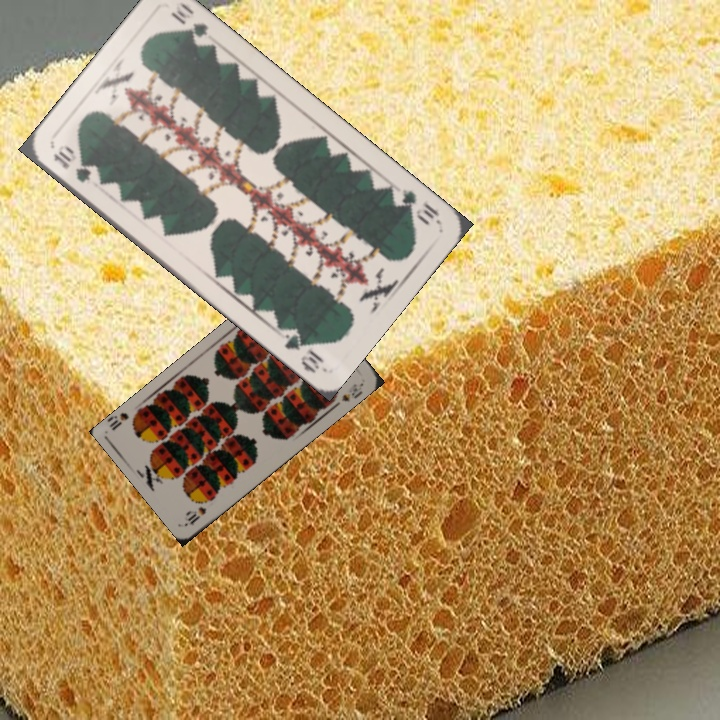G10: (387, 185, 442, 228), (48, 147, 94, 186)
S10: (183, 502, 209, 528)
